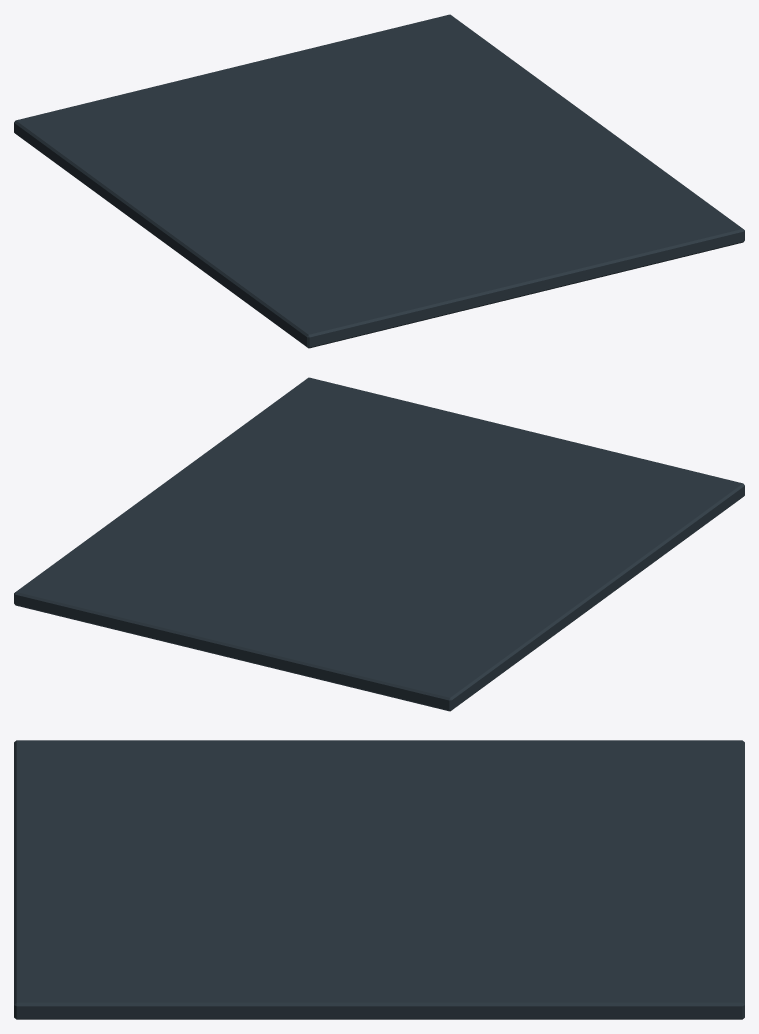
File: survey-floor.glb
The picture shows the model from 3 angles, top to bottom: view 1: azimuth 30°, elevation 25°; view 2: azimuth 150°, elevation 25°; view 3: azimuth 270°, elevation 25°; orthographic projection. The views are drawn at different scales.
Parts seen in each view (by area): view 1: survey-floor; view 2: survey-floor; view 3: survey-floor.
Boxes of the visible parts, box(x1,y1,x2,y2) form: survey-floor: box(14, 14, 744, 348); survey-floor: box(14, 377, 744, 711); survey-floor: box(14, 740, 744, 1019).
Size of the model in its own units: 6 by 0.18 by 7.
1 material, 1 textured.
